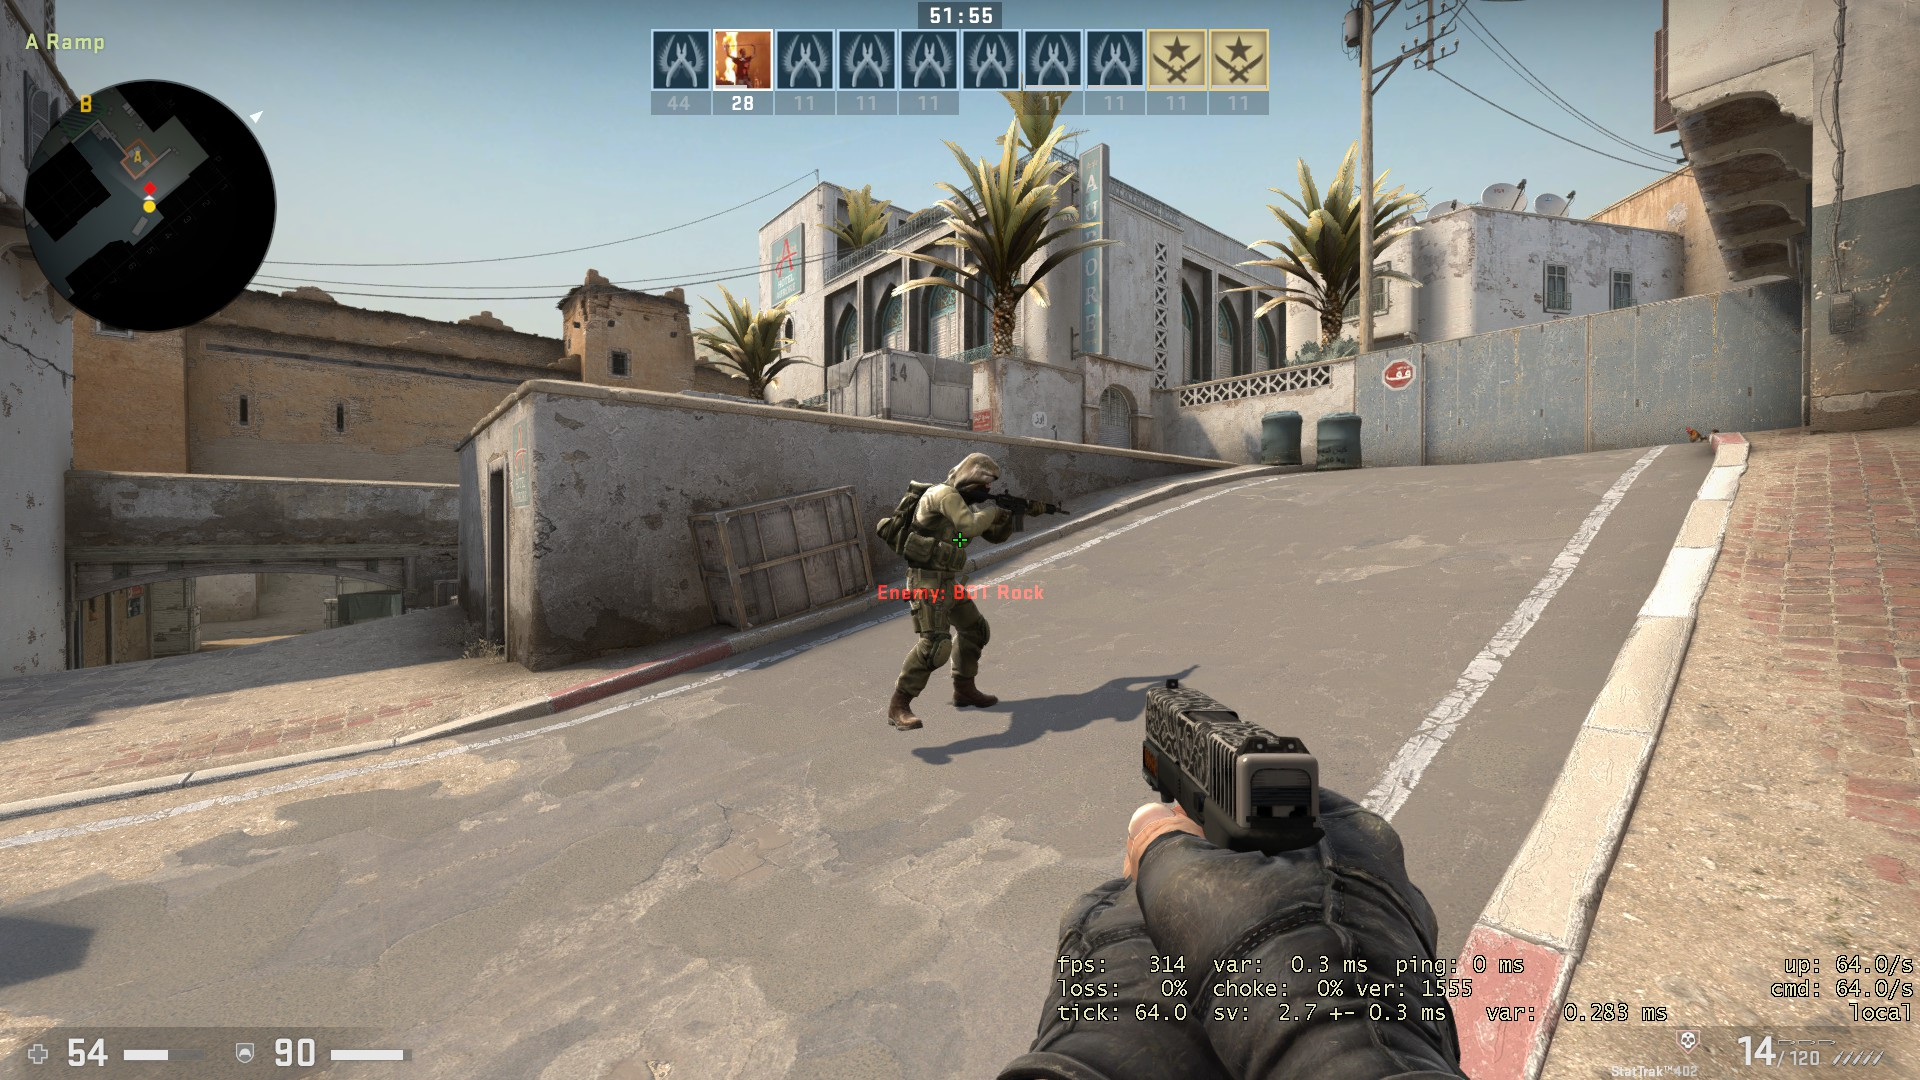ct: (870, 443, 1073, 733)
player: (873, 443, 1073, 739)
